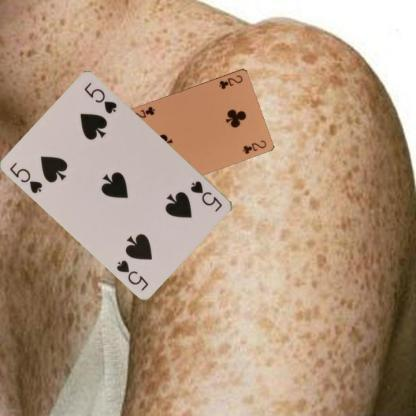2c: (216, 72, 244, 90)
5s: (7, 160, 44, 195), (188, 178, 224, 213)
